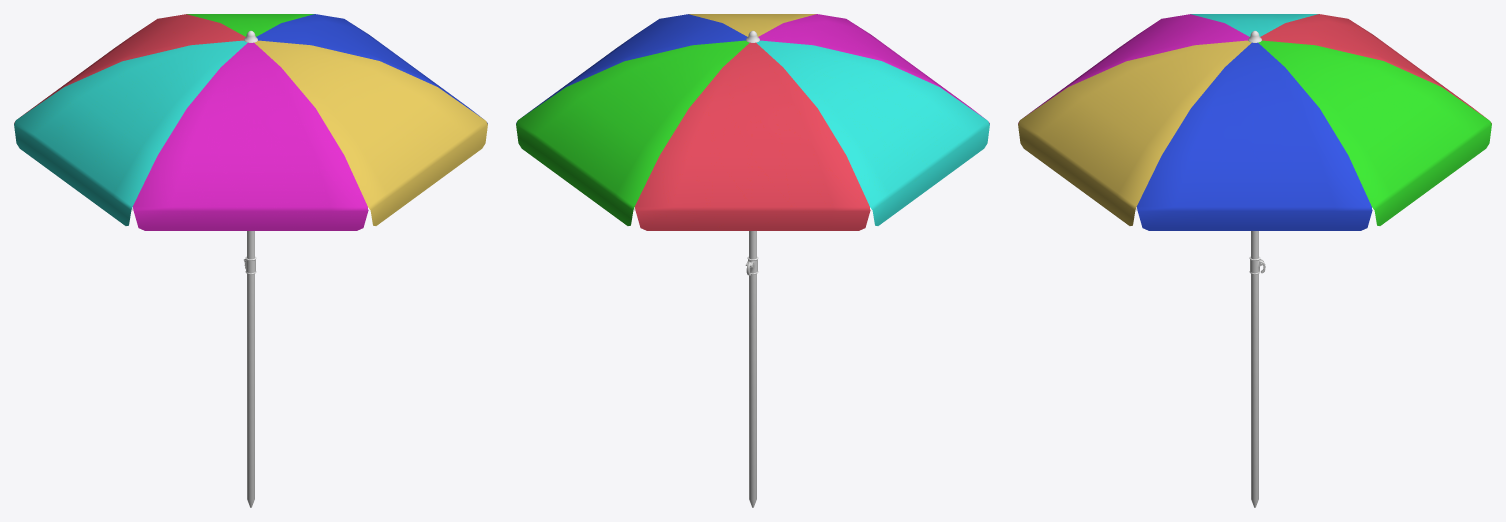
File: prop_sombrilla.glb
The picture shows the model from 3 angles, left to right: view 1: azimuth 30°, elevation 25°; view 2: azimuth 150°, elevation 25°; view 3: azimuth 270°, elevation 25°; orthographic projection.
Parts seen in each view (by area): view 1: Sphere.002_shade1_0, Cylinder_stand_0; view 2: Sphere.002_shade1_0, Cylinder_stand_0; view 3: Sphere.002_shade1_0, Cylinder_stand_0.
Part boxes in pixels (bbox=[...]): Sphere.002_shade1_0: bbox=[14, 14, 487, 230]; Cylinder_stand_0: bbox=[244, 30, 257, 507]; Sphere.002_shade1_0: bbox=[516, 14, 989, 230]; Cylinder_stand_0: bbox=[745, 30, 759, 507]; Sphere.002_shade1_0: bbox=[1018, 14, 1491, 230]; Cylinder_stand_0: bbox=[1248, 30, 1265, 507].
Bounding box in the file's own units: 254 × 325 × 292.
Materials: 4 (4 with a texture image).
